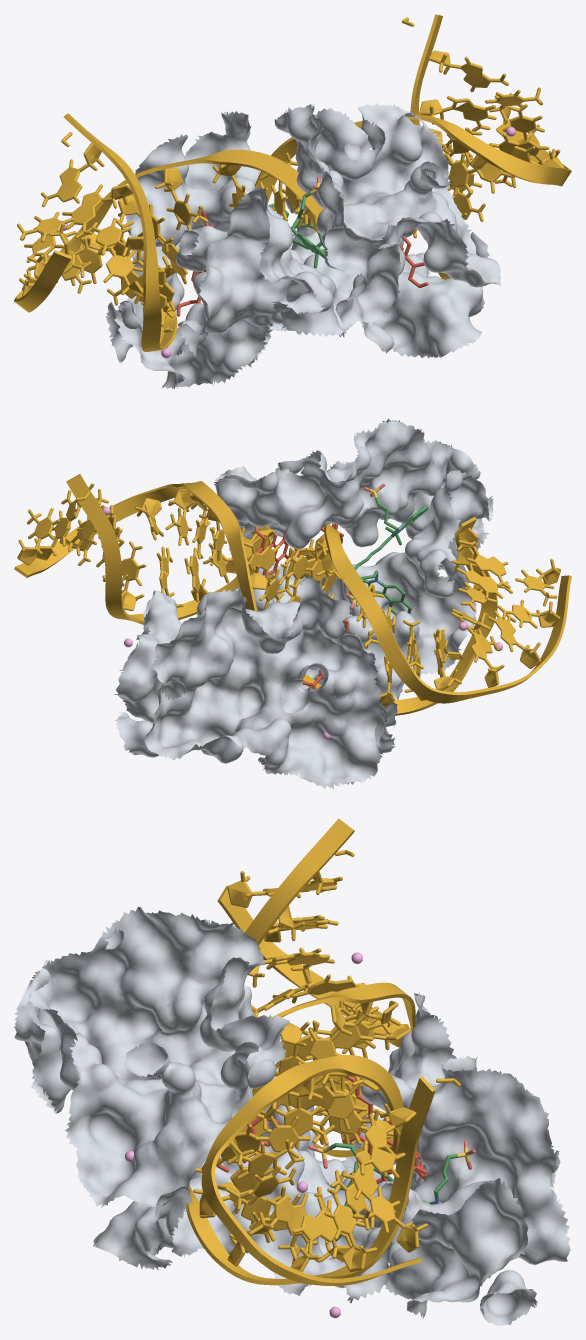
File: nonrigid_pair.glb
3 renders of one model, top to bottom at view 1: azimuth 30°, elevation 25°; view 2: azimuth 150°, elevation 25°; view 3: azimuth 270°, elevation 25°, orthographic. The views are drawn at different scales.
Visible parts, largest first — view 1: nonrigid_pair; view 2: nonrigid_pair; view 3: nonrigid_pair.
Boxes of the visible parts, x1,y1,x2,y2 form: nonrigid_pair: (14, 14, 571, 389); nonrigid_pair: (14, 418, 571, 789); nonrigid_pair: (14, 818, 570, 1325).
Size of the model in its own units: 0.3012 by 0.168 by 0.2259.
